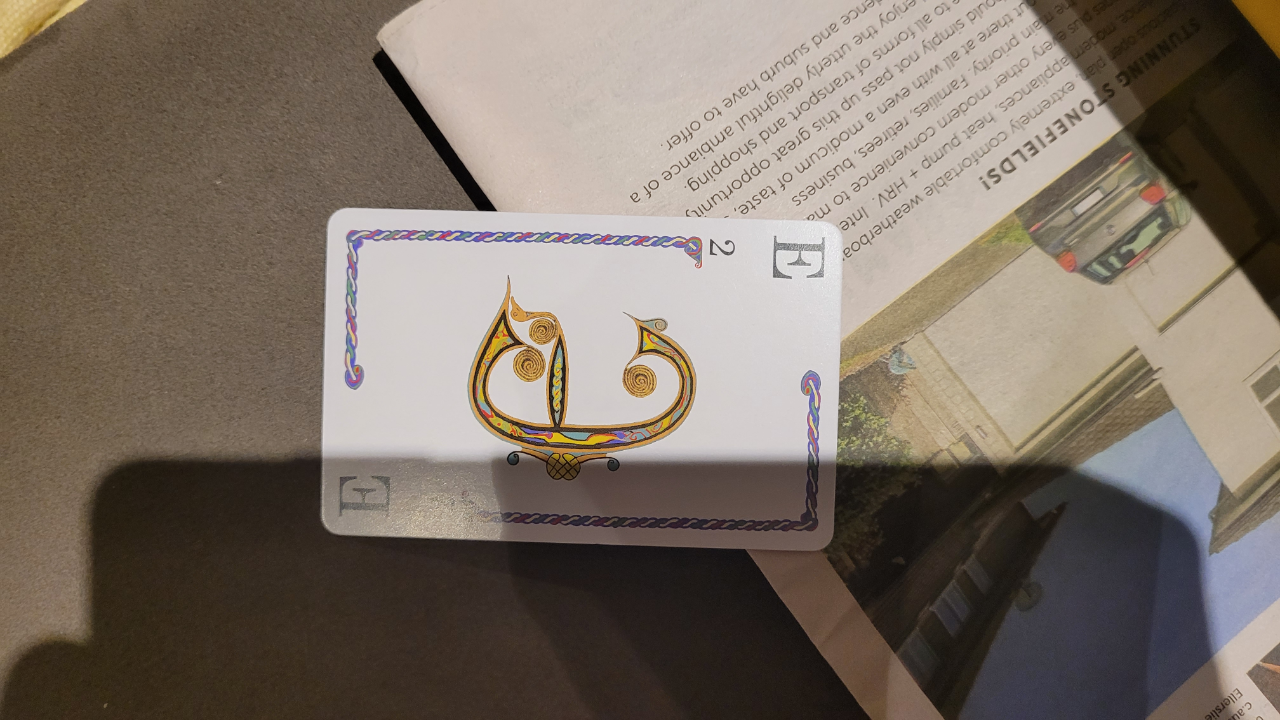quiddler_card: (313, 204, 844, 557)
